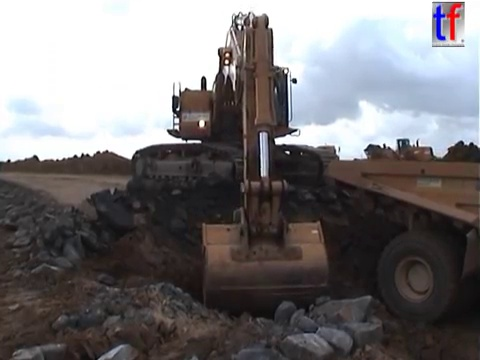excavator: (128, 10, 344, 320)
truck: (320, 156, 480, 327)
wheel loader: (361, 136, 438, 171)
